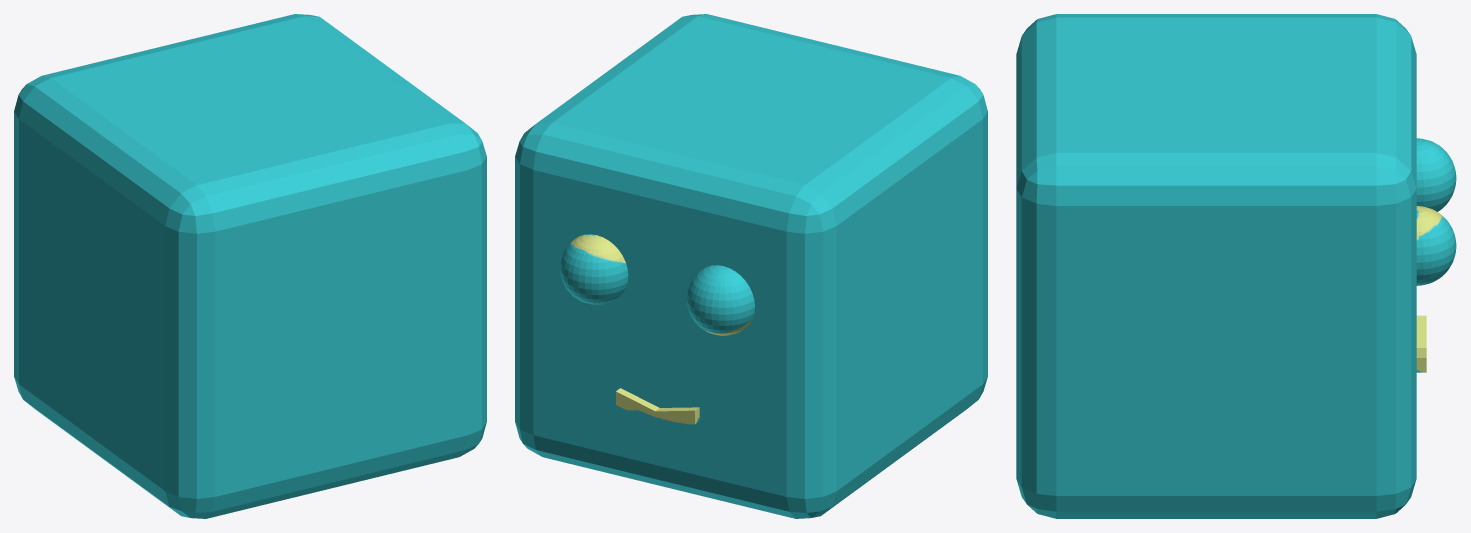
The model's file is player.obj.
The picture shows the model from 3 angles, left to right: view 1: azimuth 30°, elevation 25°; view 2: azimuth 150°, elevation 25°; view 3: azimuth 270°, elevation 25°; orthographic projection. The views are drawn at different scales.
Visible parts, largest first — view 1: 立方体; view 2: 立方体; view 3: 立方体.
Boxes of the visible parts, x1=… form: 立方体: x1=14, y1=14, x2=486, y2=518; 立方体: x1=515, y1=14, x2=987, y2=518; 立方体: x1=1016, y1=14, x2=1456, y2=518.
Bounding box in the file's own units: 1 × 1 × 1.1.
Materials: 1 (1 with a texture image).
